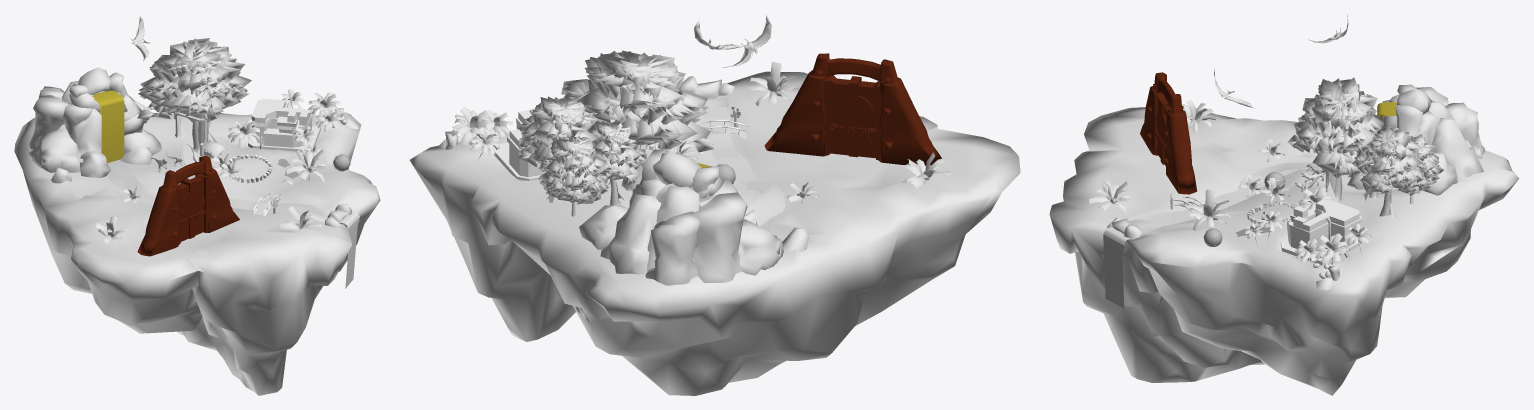
File: Jurrassic World Mobile2.fbx
3 renders of one model, left to right at view 1: azimuth 30°, elevation 25°; view 2: azimuth 150°, elevation 25°; view 3: azimuth 270°, elevation 25°, orthographic. The views are drawn at different scales.
Visible parts, largest first — view 1: Chão Low, beech_01_LOD0.009, Rock2E_LP:polySurface1.002, horns.FINAL.001, Plane002, Plane003, SM_Plant_Lillypad_Large_01_112.003, SmallDinos, Plane004, beech_01_LOD0.002, beech_01_LOD0.003; view 2: Chão Low, beech_01_LOD0.009, Rock2E_LP:polySurface1.002, horns.FINAL.001, Plane003, beech_01_LOD0.002, SmallDinos, Vitoria regia, beech_01_LOD0.003; view 3: Chão Low, beech_01_LOD0.009, horns.FINAL.001, Rock2E_LP:polySurface1.002, Plane003, Plane004, beech_01_LOD0.002, SmallDinos, SM_Plant_Lillypad_Large_01_112.003, beech_01_LOD0.003.
Part boxes in pixels (x1=…): Chão Low: x1=14, y1=112, x2=380, y2=395; beech_01_LOD0.009: x1=137, y1=38, x2=341, y2=184; Rock2E_LP:polySurface1.002: x1=29, y1=67, x2=358, y2=227; horns.FINAL.001: x1=137, y1=99, x2=320, y2=256; Plane002: x1=92, y1=90, x2=124, y2=162; Plane003: x1=106, y1=159, x2=331, y2=221; SM_Plant_Lillypad_Large_01_112.003: x1=177, y1=110, x2=346, y2=213; SmallDinos: x1=130, y1=14, x2=220, y2=166; Plane004: x1=337, y1=211, x2=359, y2=288; beech_01_LOD0.002: x1=279, y1=206, x2=321, y2=232; beech_01_LOD0.003: x1=95, y1=216, x2=128, y2=244; Chão Low: x1=409, y1=71, x2=1020, y2=395; beech_01_LOD0.009: x1=450, y1=50, x2=713, y2=216; Rock2E_LP:polySurface1.002: x1=438, y1=76, x2=809, y2=285; horns.FINAL.001: x1=489, y1=53, x2=941, y2=180; Plane003: x1=696, y1=98, x2=785, y2=225; beech_01_LOD0.002: x1=748, y1=61, x2=796, y2=106; SmallDinos: x1=694, y1=14, x2=771, y2=67; Vitoria regia: x1=703, y1=107, x2=771, y2=190; beech_01_LOD0.003: x1=902, y1=152, x2=950, y2=188; Chão Low: x1=1049, y1=107, x2=1519, y2=395; beech_01_LOD0.009: x1=1187, y1=77, x2=1444, y2=264; horns.FINAL.001: x1=1140, y1=72, x2=1362, y2=265; Rock2E_LP:polySurface1.002: x1=1107, y1=84, x2=1484, y2=289; Plane003: x1=1129, y1=162, x2=1321, y2=234; Plane004: x1=1103, y1=227, x2=1130, y2=308; beech_01_LOD0.002: x1=1089, y1=180, x2=1131, y2=212; SmallDinos: x1=1214, y1=14, x2=1348, y2=191; SM_Plant_Lillypad_Large_01_112.003: x1=1170, y1=171, x2=1397, y2=278; beech_01_LOD0.003: x1=1182, y1=99, x2=1215, y2=131.
Size of what is drawn, in the model's own units: 44302 by 37364 by 46246.
